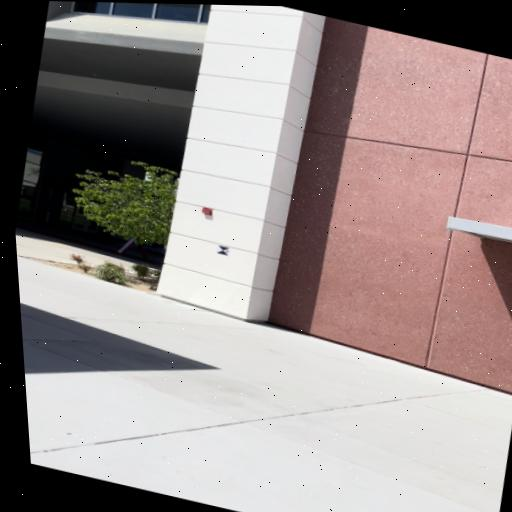target2: (216, 245, 230, 256)
